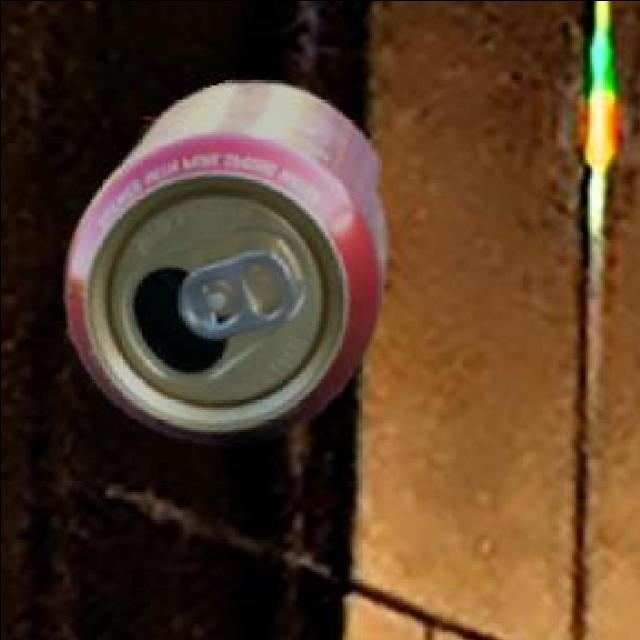logam: (61, 86, 381, 448), (61, 119, 154, 350)
